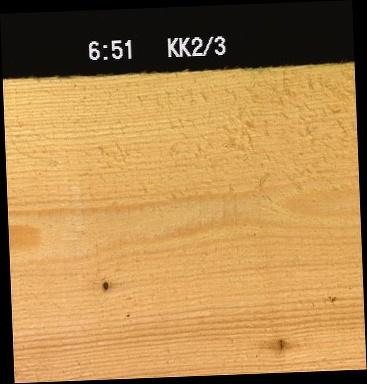dry_knot: (100, 278, 109, 292)
small_knot: (277, 336, 285, 351)
